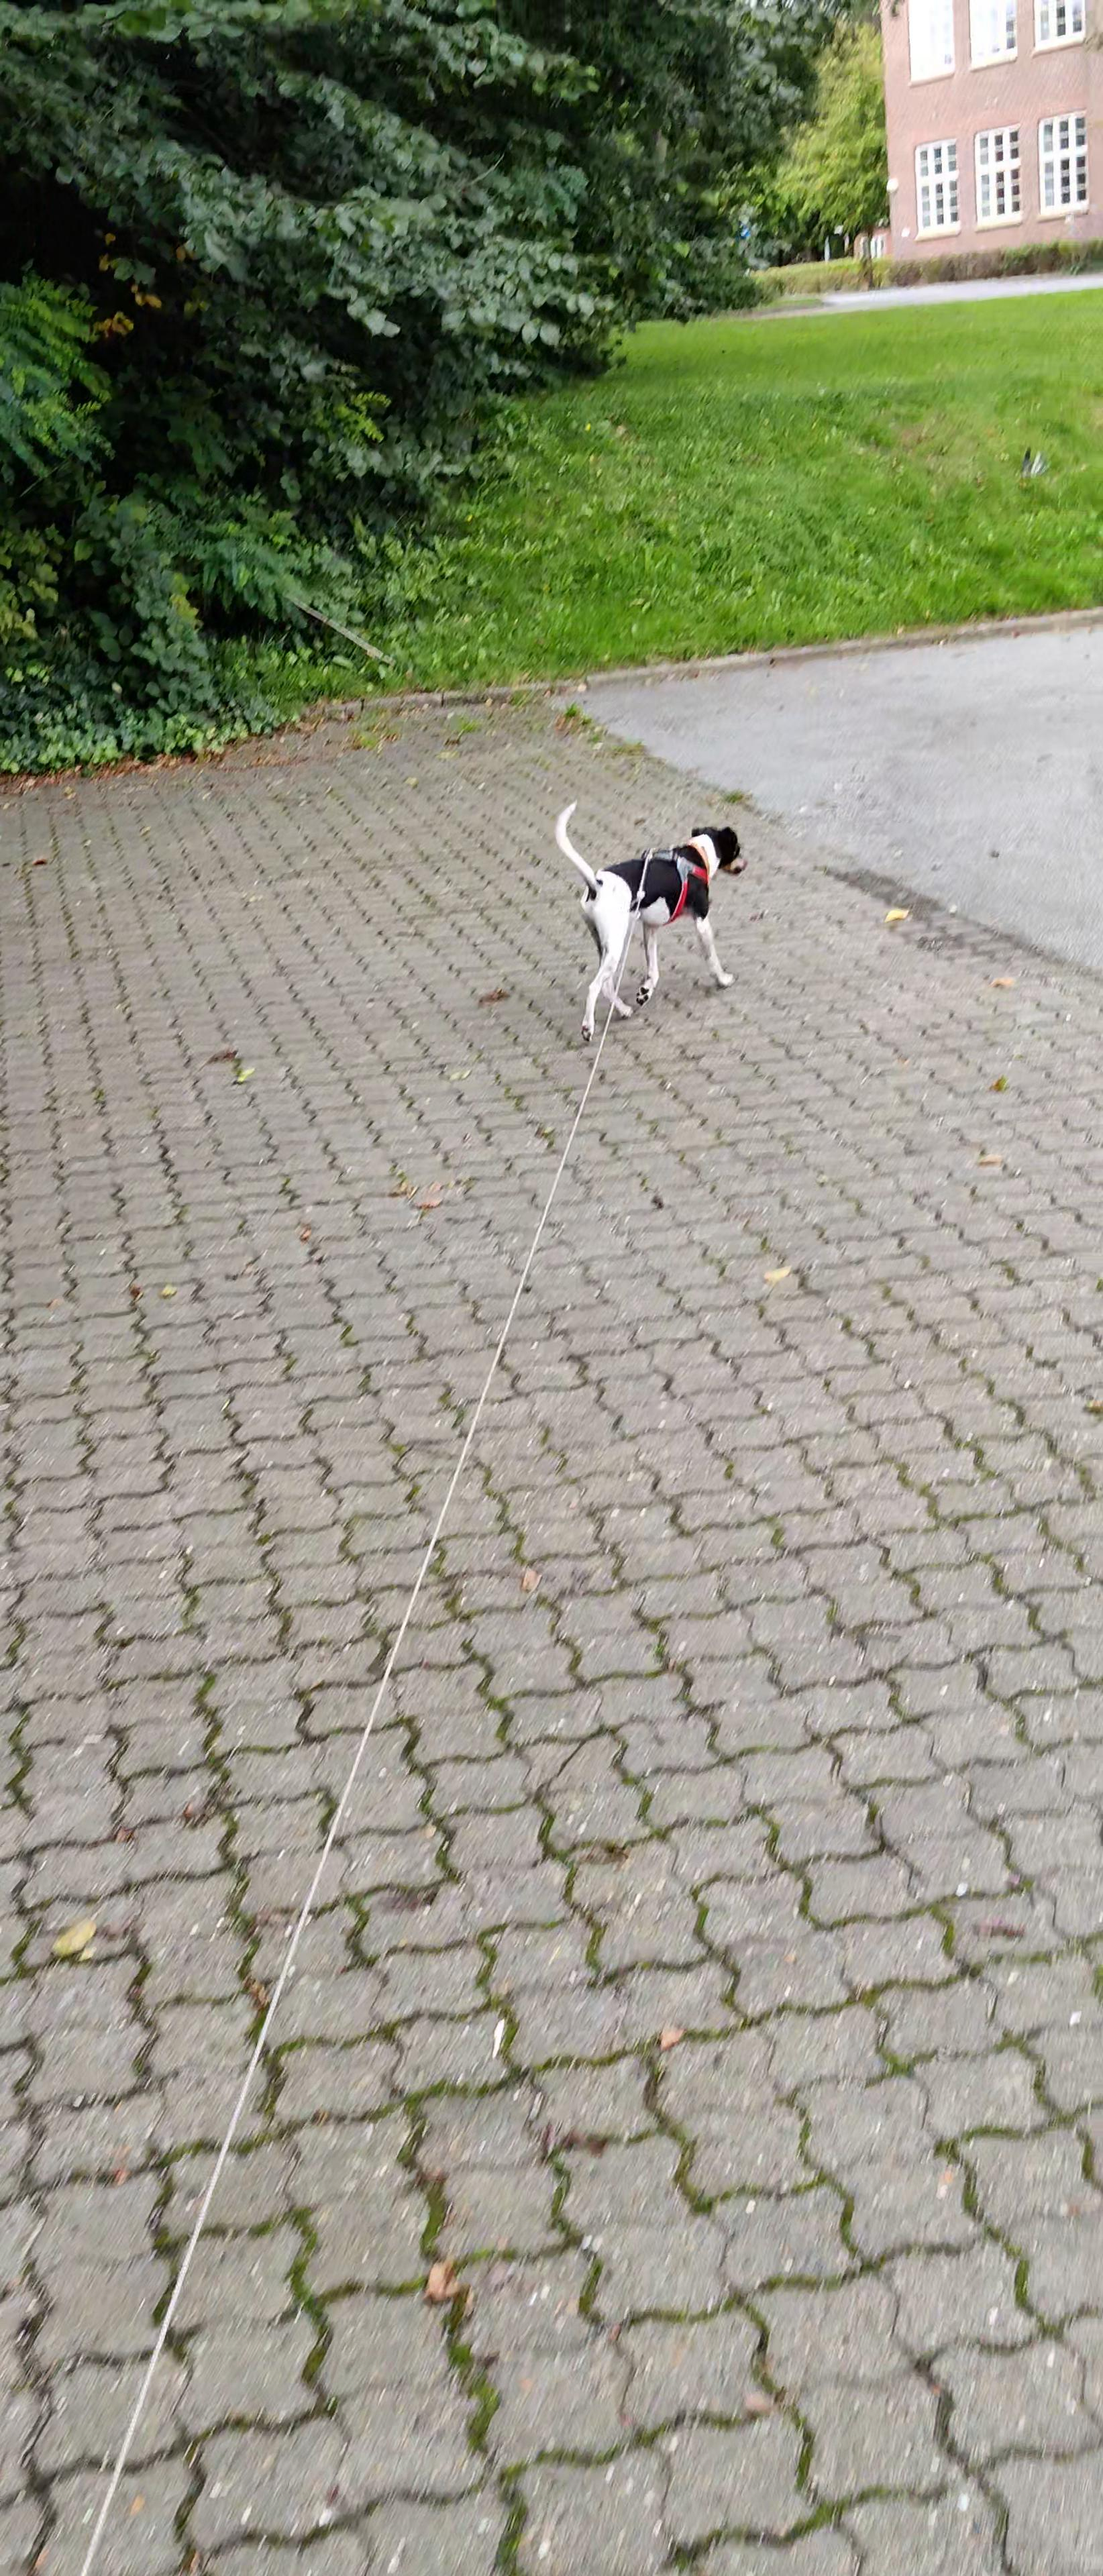Dog: (546, 793, 761, 1045)
